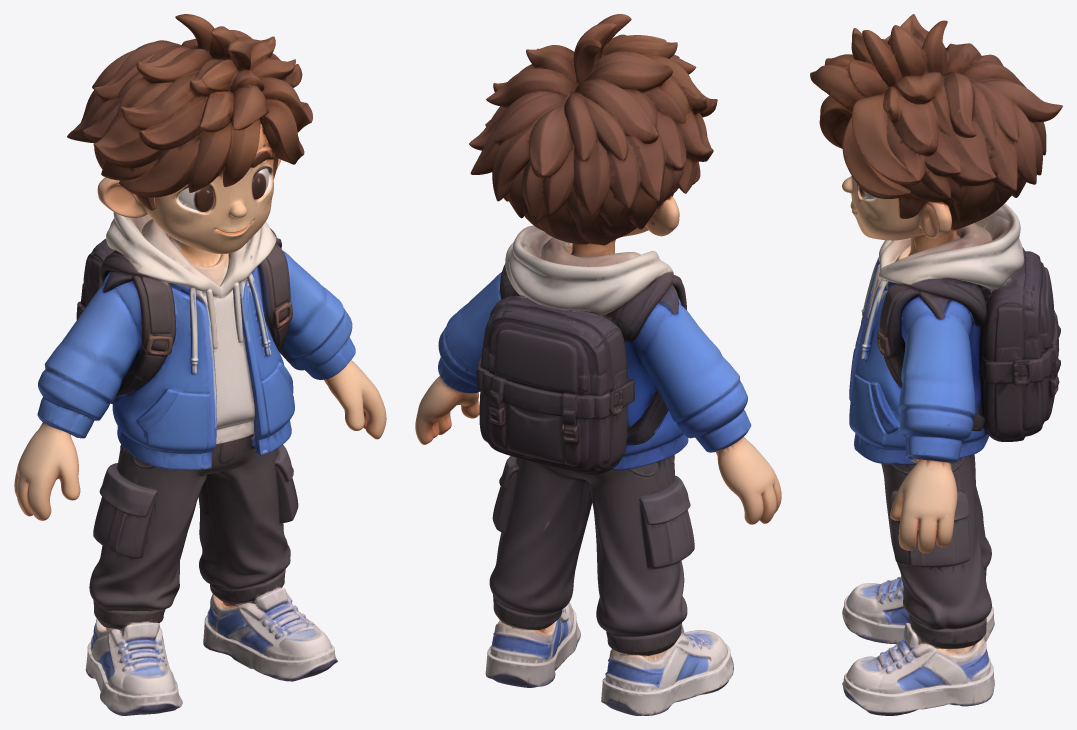
File: avatar-blue-hd.glb
3 renders of one model, left to right at view 1: azimuth 30°, elevation 25°; view 2: azimuth 150°, elevation 25°; view 3: azimuth 270°, elevation 25°, orthographic.
Parts seen in each view (by area): view 1: node_0; view 2: node_0; view 3: node_0.
Boxes of the visible parts, box(x1,y1,x2,y2) form: node_0: box(14, 14, 386, 715); node_0: box(415, 14, 781, 715); node_0: box(810, 14, 1062, 715).
Size of the model in its own units: 0.6523 by 1.13 by 0.4038.
Materials: 1 (1 with a texture image).
